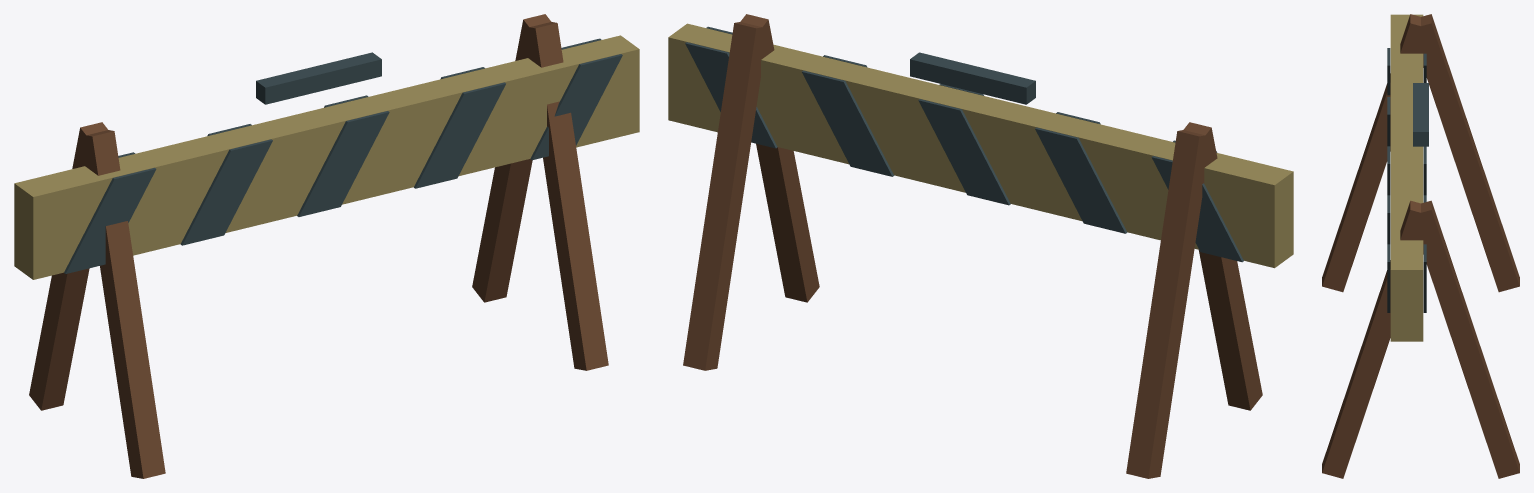
The model's file is Prop_Daily_RoadworkBarricade_001.glb.
3 views of the same model, side by side, from view 1: azimuth 30°, elevation 25°; view 2: azimuth 150°, elevation 25°; view 3: azimuth 270°, elevation 25° (orthographic). The views are drawn at different scales.
Visible parts, largest first — view 1: Prop_Daily_RoadworkBarricade_001; view 2: Prop_Daily_RoadworkBarricade_001; view 3: Prop_Daily_RoadworkBarricade_001.
Part boxes in pixels (x1=…): Prop_Daily_RoadworkBarricade_001: x1=14, y1=14, x2=639, y2=478; Prop_Daily_RoadworkBarricade_001: x1=668, y1=14, x2=1293, y2=478; Prop_Daily_RoadworkBarricade_001: x1=1322, y1=14, x2=1519, y2=478.
Size of the model in its own units: 2.6 by 1.3 by 0.8509.
